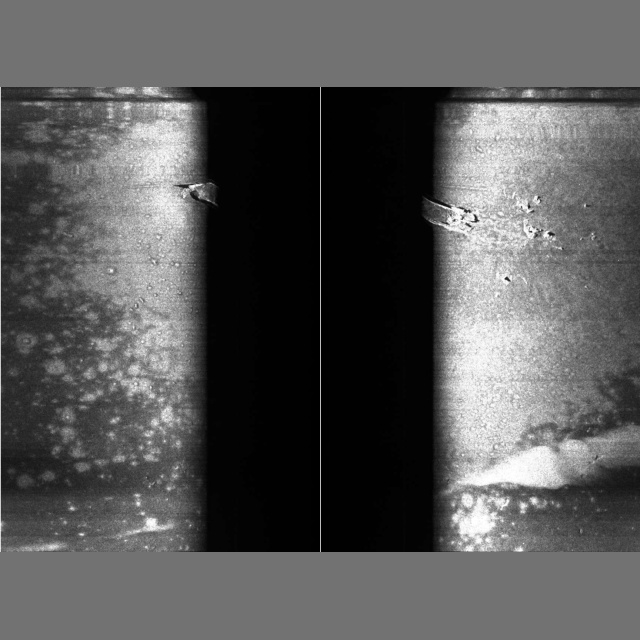Shipwreck: (177, 182, 595, 298)
